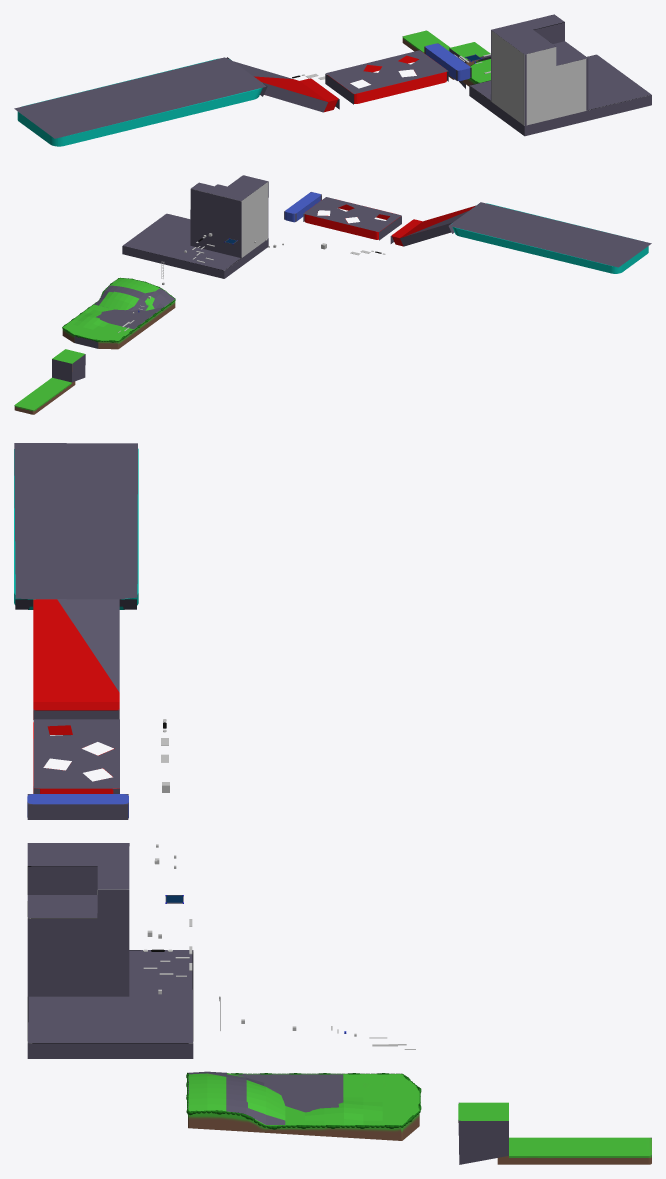
Rendered from SeesawStage(Base).obj.
3 views of the same model, one above another, from view 1: azimuth 30°, elevation 25°; view 2: azimuth 150°, elevation 25°; view 3: azimuth 270°, elevation 25° (orthographic). The views are drawn at different scales.
Visible parts, largest first — view 1: 平面.010, 立方体.012, 立方体.035, 平面.009, 平面.005, 平面.007, 平面.018, 立方体.029, 立方体, 立方体.023, 平面.032, 平面.019 (+5 smaller); view 2: 平面.010, 立方体.009, 平面.020, 平面.005, 立方体.035, 立方体.012, 平面.009, 立方体, 平面.007, 平面.016, 立方体.040, 立方体.029 (+5 smaller); view 3: 平面.010, 平面.005, 立方体.009, 平面.022, 立方体.035, 平面.009, 立方体, 平面.007, 平面.017, 平面.004, 平面.024, 平面.013 (+4 smaller).
Boxes of the visible parts, x1=… form: 平面.010: x1=14, y1=57, x2=339, y2=138; 立方体.012: x1=471, y1=22, x2=649, y2=125; 立方体.035: x1=17, y1=58, x2=338, y2=146; 平面.009: x1=326, y1=50, x2=448, y2=93; 平面.005: x1=470, y1=54, x2=651, y2=109; 平面.007: x1=491, y1=14, x2=564, y2=54; 平面.018: x1=524, y1=95, x2=651, y2=135; 立方体.029: x1=328, y1=52, x2=446, y2=103; 立方体: x1=402, y1=30, x2=490, y2=79; 立方体.023: x1=425, y1=43, x2=470, y2=80; 平面.032: x1=260, y1=82, x2=327, y2=112; 平面.019: x1=469, y1=86, x2=524, y2=135; 平面.010: x1=391, y1=202, x2=651, y2=267; 立方体.009: x1=62, y1=278, x2=175, y2=349; 平面.020: x1=190, y1=189, x2=241, y2=257; 平面.005: x1=123, y1=213, x2=240, y2=270; 立方体.035: x1=391, y1=203, x2=648, y2=273; 立方体.012: x1=148, y1=182, x2=267, y2=270; 平面.009: x1=303, y1=197, x2=401, y2=231; 立方体: x1=14, y1=349, x2=84, y2=414; 平面.007: x1=191, y1=175, x2=267, y2=200; 平面.016: x1=122, y1=246, x2=224, y2=278; 立方体.040: x1=94, y1=279, x2=174, y2=311; 立方体.029: x1=304, y1=204, x2=400, y2=239; 平面.010: x1=14, y1=443, x2=137, y2=710; 平面.005: x1=28, y1=950, x2=192, y2=1042; 立方体.009: x1=188, y1=1073, x2=419, y2=1140; 平面.022: x1=27, y1=890, x2=129, y2=996; 立方体.035: x1=14, y1=448, x2=138, y2=719; 平面.009: x1=33, y1=719, x2=119, y2=788; 立方体: x1=458, y1=1102, x2=651, y2=1164; 平面.007: x1=27, y1=843, x2=129, y2=889; 平面.017: x1=27, y1=1043, x2=193, y2=1058; 平面.004: x1=237, y1=1074, x2=343, y2=1112; 平面.024: x1=28, y1=866, x2=97, y2=894; 平面.013: x1=458, y1=1121, x2=508, y2=1164.
Bounding box in the file's own units: 258 × 79.33 × 156.
